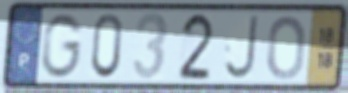0: (90, 12, 125, 81)
2: (177, 11, 217, 84)
3: (130, 10, 173, 84)
G: (40, 12, 86, 80)
J: (221, 13, 260, 83)
O: (265, 13, 308, 82)
